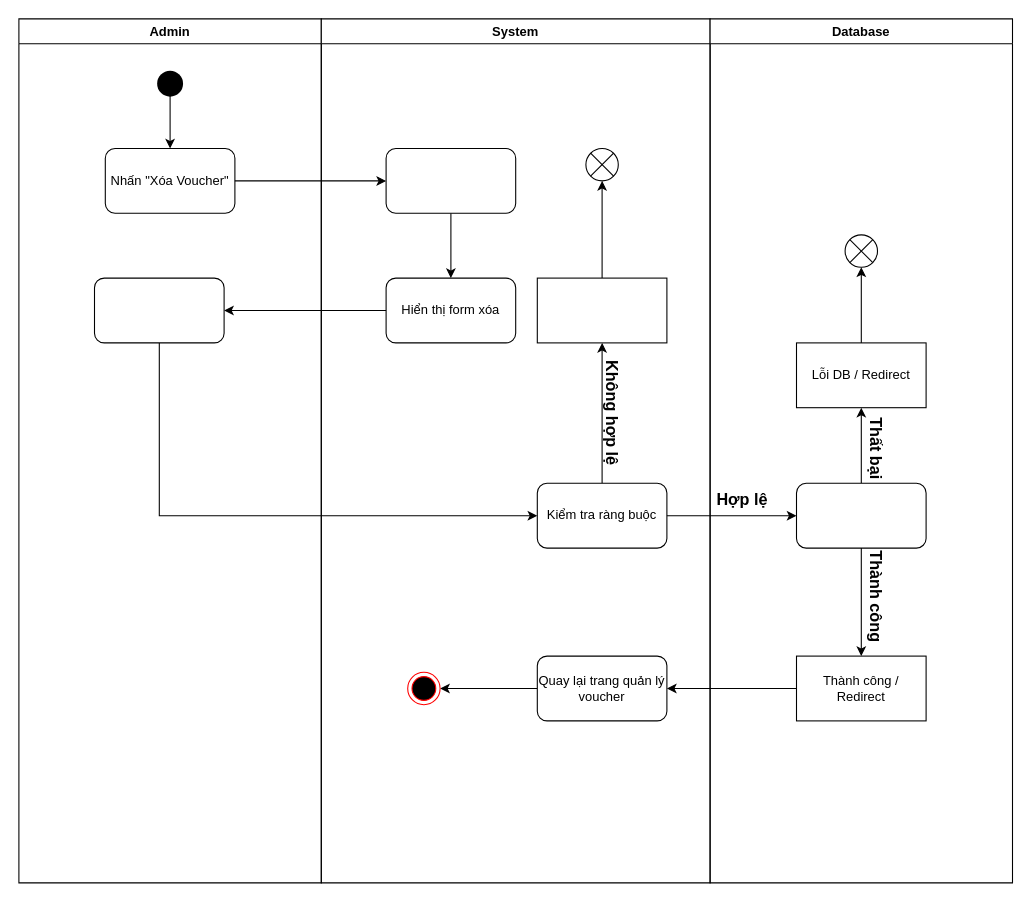
Some shapes in this 1031 by 902 pixel diagram are drawn without their labels. Each missing label, with the centre of its shape:
Lỗi ràng buộc / Redirect: pixel 601 310
Nhấn "Xác nhận xóa": pixel 158 310
Thực thi lệnh Delete: pixel 860 515
Truy vấn Voucher: pixel 450 180
